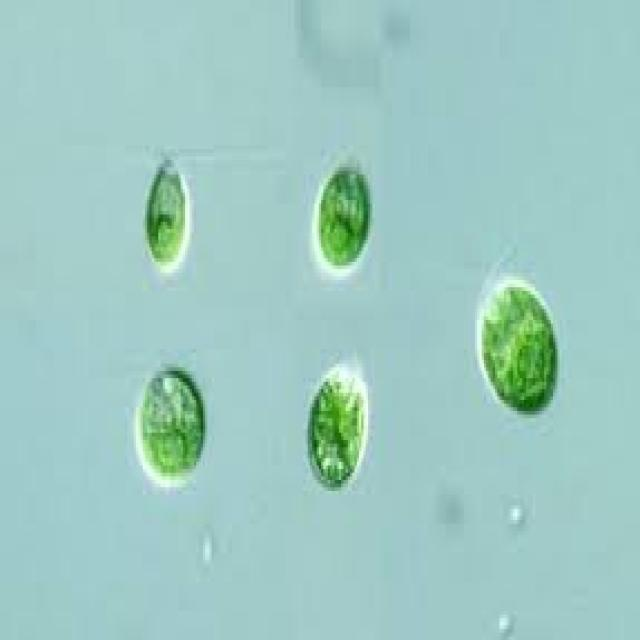Green Algae: (480, 276, 558, 422), (299, 352, 370, 494), (136, 364, 207, 491), (308, 152, 372, 272), (145, 153, 192, 269)
